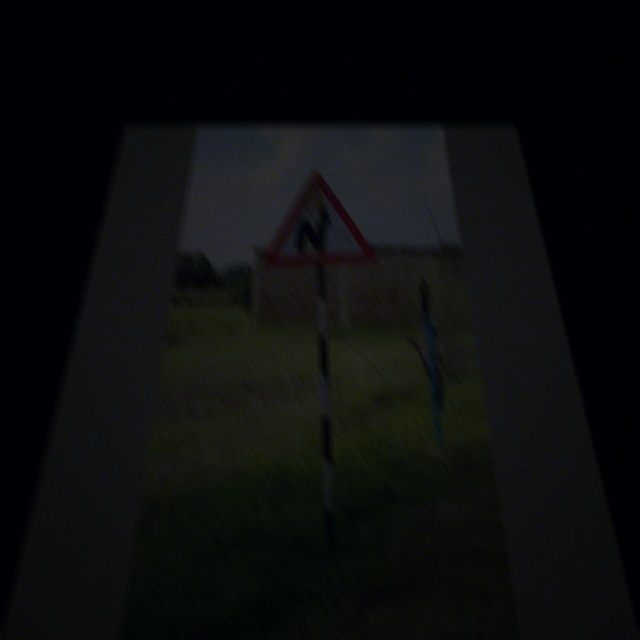Right_Reverse_Bend: (263, 171, 372, 263)
